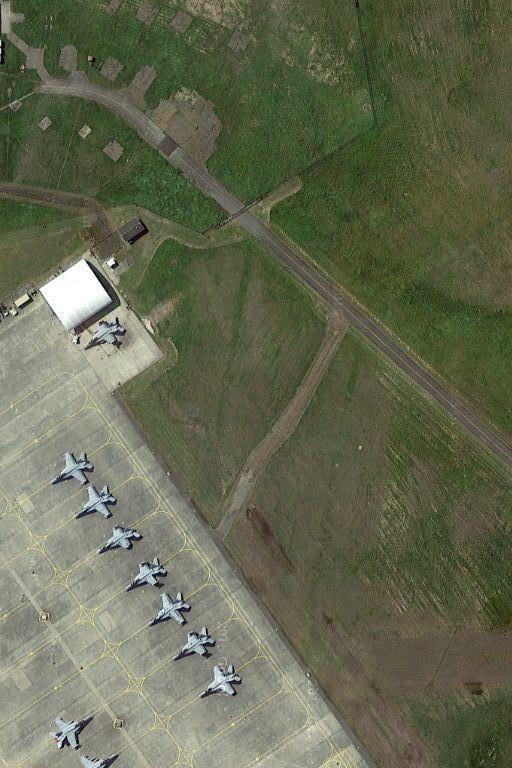F/A-18: (146, 588, 194, 632), (47, 712, 96, 753), (194, 663, 246, 701), (79, 314, 127, 355), (123, 553, 168, 596), (172, 623, 218, 663), (97, 516, 144, 555), (73, 482, 117, 523), (53, 449, 97, 487)
